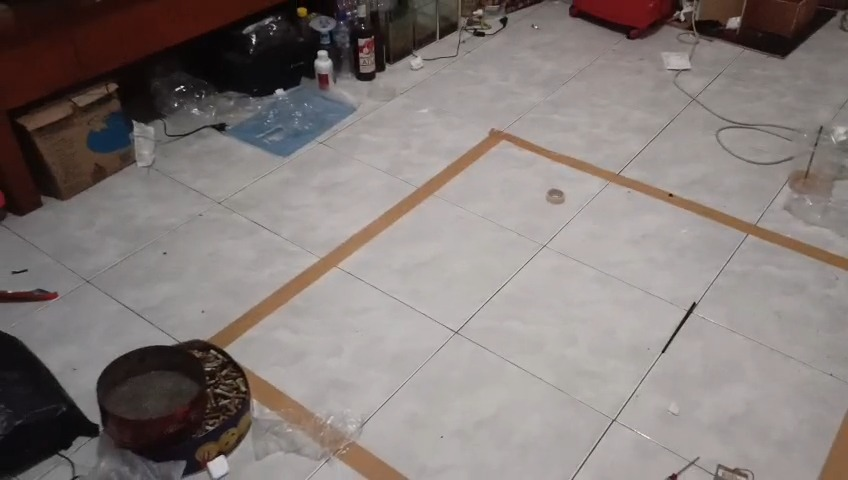floor marking: (209, 129, 847, 347), (242, 367, 406, 479), (820, 412, 847, 479)
